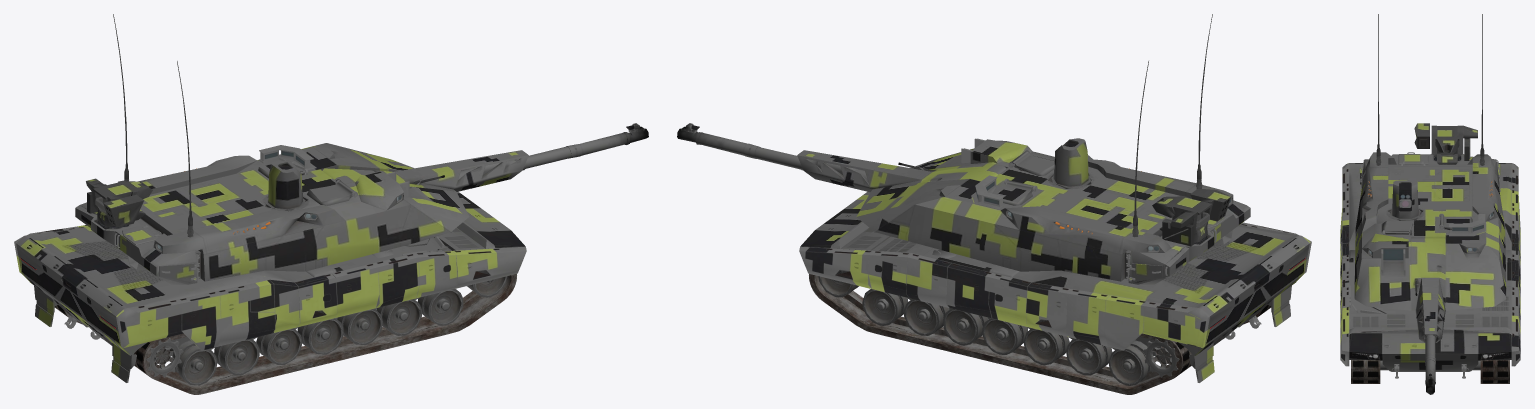
3 views of the same model, side by side, from view 1: azimuth 30°, elevation 25°; view 2: azimuth 150°, elevation 25°; view 3: azimuth 270°, elevation 25° (orthographic). The views are drawn at different scales.
Visible parts, largest first — view 1: KF51_Body_06_low, KF51_Body_07_low, KF51_Parts_09_low, KF51_Body_02_low, KF51_Parts_08_low, KF51_Wheels_03_low, KF51_Treads_01_low, KF51_Body_01_low, KF51_Body_12_low, KF51_Wheels_04_low, KF51_Body_11_low, KF51_Wheels_02_low (+4 smaller); view 2: KF51_Body_06_low, KF51_Body_07_low, KF51_Parts_09_low, KF51_Body_02_low, KF51_Parts_08_low, KF51_Wheels_03_low, KF51_Treads_01_low, KF51_Body_01_low, KF51_Body_12_low, KF51_Wheels_04_low, KF51_Body_11_low, KF51_Wheels_02_low (+3 smaller); view 3: KF51_Body_06_low, KF51_Body_07_low, KF51_Body_02_low, KF51_Body_12_low, KF51_Body_01_low, KF51_Parts_09_low, KF51_Body_11_low, KF51_Parts_08_low, KF51_Treads_01_low, KF51_Parts_18_low, KF51_Parts_03_low, KF51_Parts_17_low (+1 smaller).
Part boxes in pixels (x1,y1,x2,y2): KF51_Body_06_low: [80, 143, 469, 284]; KF51_Body_07_low: [16, 191, 525, 356]; KF51_Parts_09_low: [14, 227, 526, 347]; KF51_Body_02_low: [86, 147, 403, 254]; KF51_Parts_08_low: [74, 225, 457, 350]; KF51_Wheels_03_low: [146, 276, 506, 384]; KF51_Treads_01_low: [54, 274, 516, 394]; KF51_Body_01_low: [34, 159, 429, 382]; KF51_Body_12_low: [91, 150, 528, 227]; KF51_Wheels_04_low: [172, 276, 507, 385]; KF51_Body_11_low: [93, 128, 648, 199]; KF51_Wheels_02_low: [153, 279, 492, 371]; KF51_Body_06_low: [856, 148, 1250, 284]; KF51_Body_07_low: [800, 191, 1309, 356]; KF51_Parts_09_low: [799, 224, 1311, 347]; KF51_Body_02_low: [939, 138, 1233, 254]; KF51_Parts_08_low: [868, 222, 1251, 350]; KF51_Wheels_03_low: [820, 276, 1179, 384]; KF51_Treads_01_low: [809, 274, 1271, 394]; KF51_Body_01_low: [872, 151, 1291, 382]; KF51_Body_12_low: [797, 150, 1213, 242]; KF51_Wheels_04_low: [818, 276, 1153, 385]; KF51_Body_11_low: [677, 128, 1212, 220]; KF51_Wheels_02_low: [833, 279, 1171, 371]; KF51_Body_06_low: [1354, 154, 1506, 310]; KF51_Body_07_low: [1349, 163, 1511, 371]; KF51_Body_02_low: [1362, 123, 1498, 258]; KF51_Body_12_low: [1411, 125, 1463, 342]; KF51_Body_01_low: [1349, 154, 1511, 313]; KF51_Parts_09_low: [1340, 163, 1520, 366]; KF51_Body_11_low: [1398, 126, 1459, 394]; KF51_Parts_08_low: [1340, 187, 1520, 324]; KF51_Treads_01_low: [1351, 360, 1509, 383]; KF51_Parts_18_low: [1356, 14, 1504, 370]; KF51_Parts_03_low: [1349, 214, 1485, 313]; KF51_Parts_17_low: [1383, 199, 1411, 261].
Bounding box in the file's own units: 8.74 × 4.65 × 2.9.
4 materials, 4 textured.
